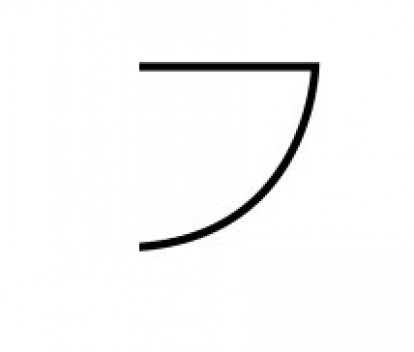door: (98, 42, 342, 285)
